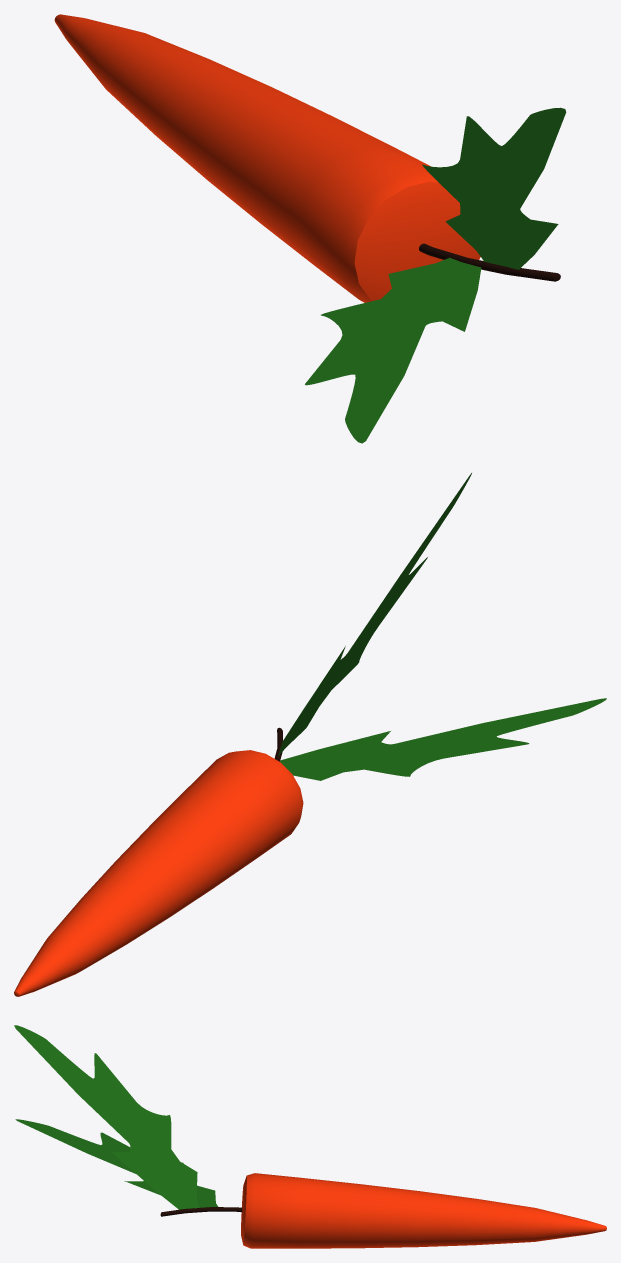
File: Zanahoria.fbx
3 renders of one model, top to bottom at view 1: azimuth 30°, elevation 25°; view 2: azimuth 150°, elevation 25°; view 3: azimuth 270°, elevation 25°, orthographic. The views are drawn at different scales.
Visible parts, largest first — view 1: Zanahoria; view 2: Zanahoria; view 3: Zanahoria.
Part boxes in pixels (x1,y1,x2,y2): Zanahoria: [54, 14, 566, 443]; Zanahoria: [14, 473, 606, 996]; Zanahoria: [14, 1025, 606, 1248].
Bounding box in the file's own units: 14.96 × 15.74 × 42.74.
